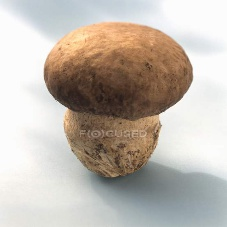mushroom: (43, 20, 197, 182)
